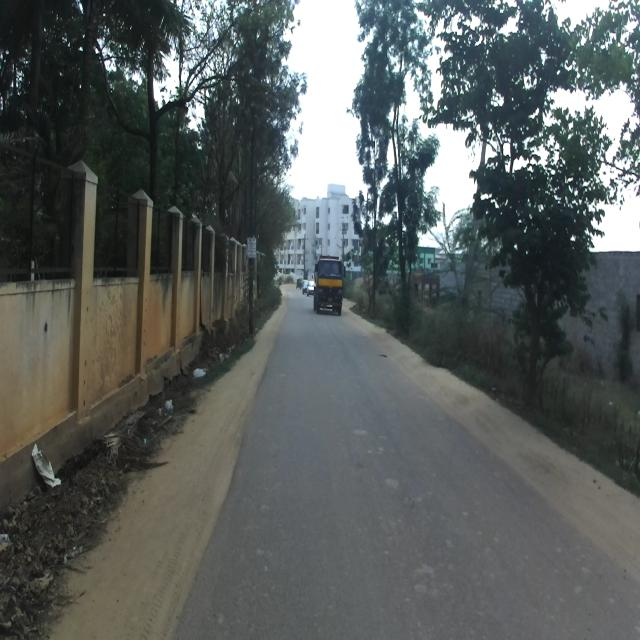truck ahead at: (311, 256, 347, 315)
